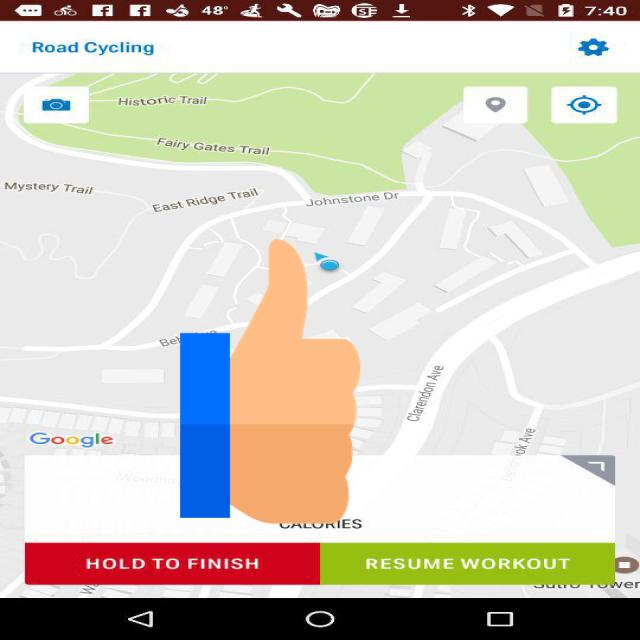privacy zuckering: (180, 232, 360, 531)
